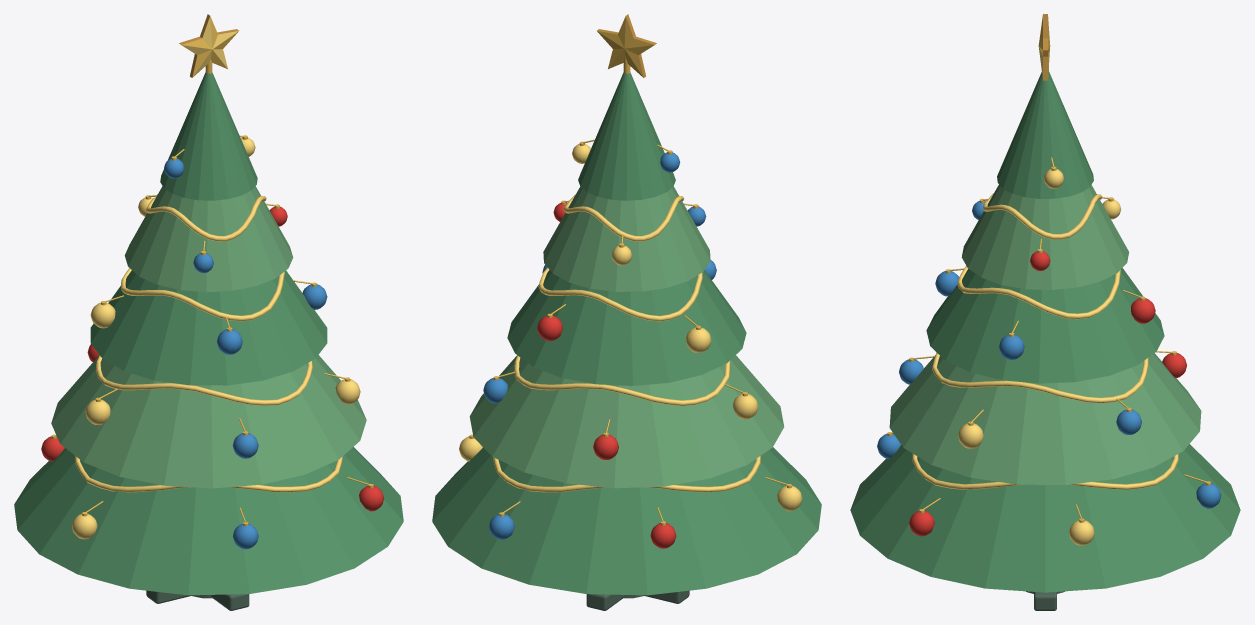
The model's file is christmas_tree_decorated.glb.
The picture shows the model from 3 angles, left to right: view 1: azimuth 30°, elevation 25°; view 2: azimuth 150°, elevation 25°; view 3: azimuth 270°, elevation 25°; orthographic projection.
Parts seen in each view (by area): view 1: Christmas_Tree_Fir_Tier_0, Christmas_Tree_Fir_Tier_1, Christmas_Tree_Fir_Tier_2, Christmas_Tree_Fir_Tier_3, Christmas_Tree_Fir_Tier_4, Christmas_Tree_Draped_Garland_1, Christmas_Tree_Attached_Top_Star, Christmas_Tree_Draped_Garland_0, Christmas_Tree_Draped_Garland_2, Christmas_Tree_Draped_Garland_3, Christmas_Tree_Bauble_2_3, Christmas_Tree_Bauble_1_4 (+1 smaller); view 2: Christmas_Tree_Fir_Tier_0, Christmas_Tree_Fir_Tier_1, Christmas_Tree_Fir_Tier_2, Christmas_Tree_Fir_Tier_3, Christmas_Tree_Fir_Tier_4, Christmas_Tree_Draped_Garland_1, Christmas_Tree_Attached_Top_Star, Christmas_Tree_Draped_Garland_0, Christmas_Tree_Draped_Garland_2, Christmas_Tree_Draped_Garland_3, Christmas_Tree_Bauble_0_2, Christmas_Tree_Bauble_0_3 (+2 smaller); view 3: Christmas_Tree_Fir_Tier_0, Christmas_Tree_Fir_Tier_1, Christmas_Tree_Fir_Tier_2, Christmas_Tree_Fir_Tier_3, Christmas_Tree_Fir_Tier_4, Christmas_Tree_Draped_Garland_1, Christmas_Tree_Draped_Garland_0, Christmas_Tree_Draped_Garland_2, Christmas_Tree_Draped_Garland_3, Christmas_Tree_Attached_Top_Star.
Part boxes in pixels (box(x1,y1,x2,y2)): Christmas_Tree_Fir_Tier_0: box(14, 447, 403, 595); Christmas_Tree_Fir_Tier_1: box(51, 355, 366, 488); Christmas_Tree_Fir_Tier_2: box(90, 270, 327, 385); Christmas_Tree_Fir_Tier_3: box(124, 186, 293, 292); Christmas_Tree_Fir_Tier_4: box(160, 72, 257, 200); Christmas_Tree_Draped_Garland_1: box(96, 355, 312, 405); Christmas_Tree_Attached_Top_Star: box(179, 14, 238, 77); Christmas_Tree_Draped_Garland_0: box(75, 456, 343, 492); Christmas_Tree_Draped_Garland_2: box(121, 268, 284, 321); Christmas_Tree_Draped_Garland_3: box(146, 194, 266, 241); Christmas_Tree_Bauble_2_3: box(217, 329, 242, 354); Christmas_Tree_Bauble_1_4: box(232, 433, 258, 458); Christmas_Tree_Fir_Tier_0: box(432, 447, 821, 595); Christmas_Tree_Fir_Tier_1: box(469, 355, 784, 488); Christmas_Tree_Fir_Tier_2: box(507, 270, 746, 385); Christmas_Tree_Fir_Tier_3: box(543, 186, 710, 291); Christmas_Tree_Fir_Tier_4: box(578, 72, 675, 200); Christmas_Tree_Draped_Garland_1: box(514, 355, 730, 405); Christmas_Tree_Attached_Top_Star: box(597, 14, 656, 77); Christmas_Tree_Draped_Garland_0: box(493, 456, 760, 492); Christmas_Tree_Draped_Garland_2: box(538, 267, 702, 321); Christmas_Tree_Draped_Garland_3: box(563, 194, 684, 241); Christmas_Tree_Bauble_0_2: box(489, 514, 514, 539); Christmas_Tree_Bauble_0_3: box(650, 523, 676, 548); Christmas_Tree_Fir_Tier_0: box(850, 444, 1240, 592); Christmas_Tree_Fir_Tier_1: box(889, 353, 1201, 485); Christmas_Tree_Fir_Tier_2: box(926, 268, 1164, 383); Christmas_Tree_Fir_Tier_3: box(961, 184, 1129, 289); Christmas_Tree_Fir_Tier_4: box(997, 71, 1093, 198); Christmas_Tree_Draped_Garland_1: box(932, 352, 1148, 403); Christmas_Tree_Draped_Garland_0: box(912, 453, 1178, 489); Christmas_Tree_Draped_Garland_2: box(957, 266, 1120, 319); Christmas_Tree_Draped_Garland_3: box(983, 193, 1102, 239); Christmas_Tree_Attached_Top_Star: box(1038, 14, 1050, 80).
Bounding box in the file's own units: 1.44 × 2.32 × 1.44.
